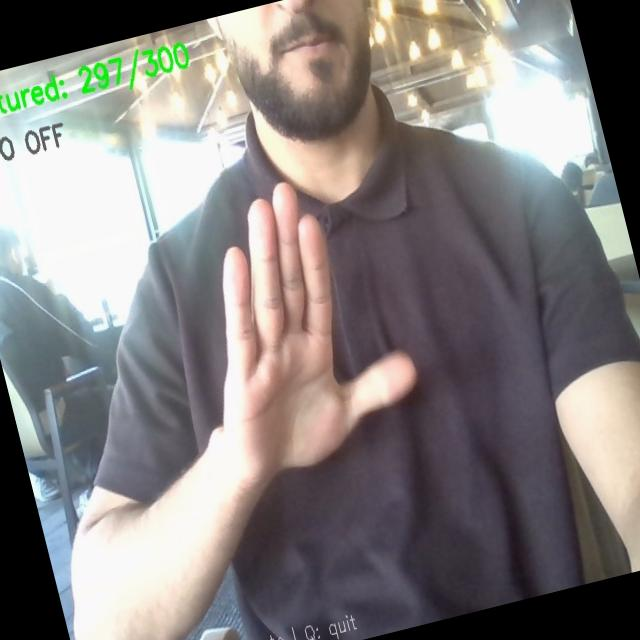Hand: (216, 184, 416, 479)
